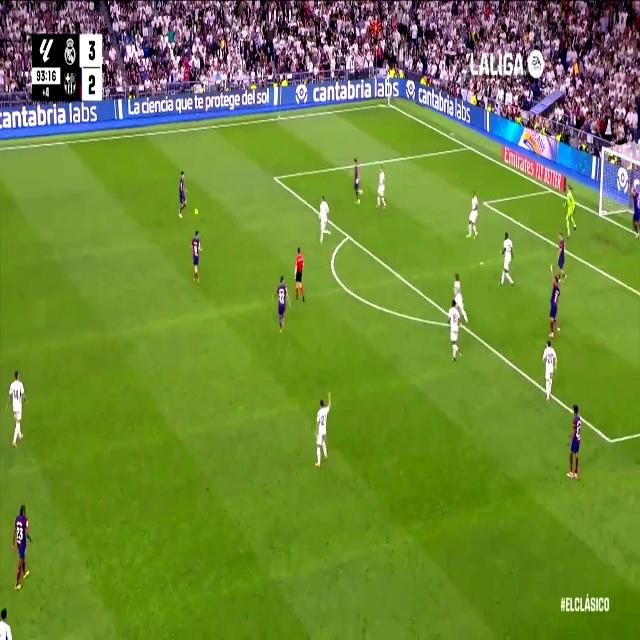bigarea_bottom_inner: (604, 426, 616, 454)
bigarea_top_inner: (270, 168, 280, 186)
bigarea_top_outter: (464, 138, 473, 154)
corner: (384, 99, 393, 109)
smallarea_top_inner: (481, 193, 488, 210)
smallarea_top_outter: (547, 184, 554, 196)
top_arc_area_intersection: (344, 226, 352, 244)
